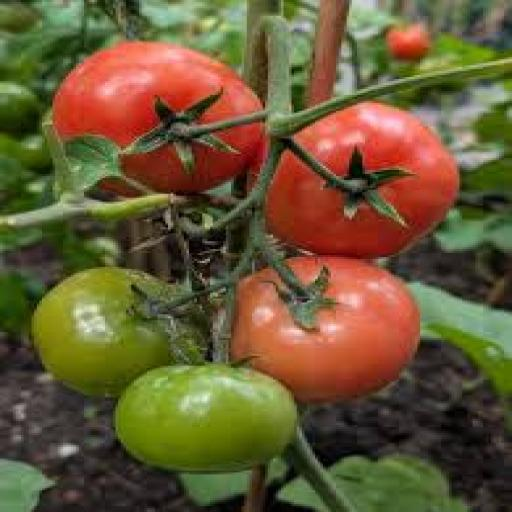tomato: (266, 103, 459, 258), (232, 257, 420, 403), (53, 42, 262, 146), (116, 364, 296, 472), (32, 267, 173, 395), (0, 82, 42, 134), (0, 133, 49, 170), (386, 24, 430, 61), (0, 0, 39, 33)
